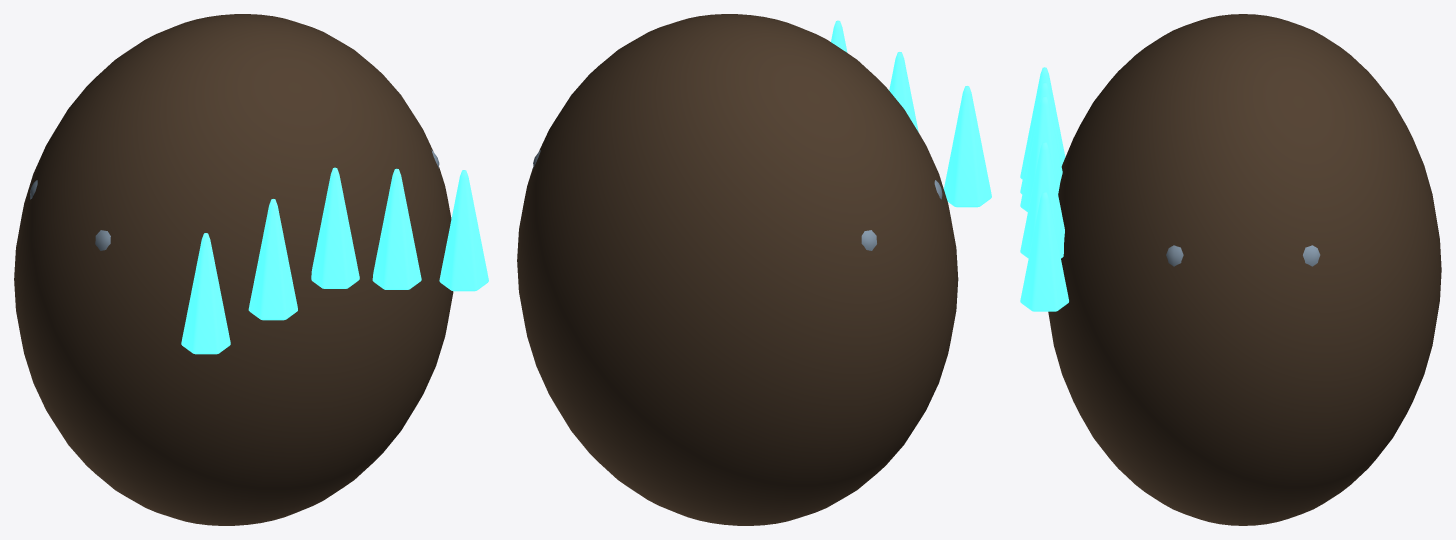
File: helm_v8.glb
3 views of the same model, side by side, from view 1: azimuth 30°, elevation 25°; view 2: azimuth 150°, elevation 25°; view 3: azimuth 270°, elevation 25° (orthographic).
Parts seen in each view (by area): view 1: CRYSTAL_HELM_SECONDARY, VISOR_CRYSTAL_EMISSIVE.001, VISOR_CRYSTAL_EMISSIVE.004, VISOR_CRYSTAL_EMISSIVE, VISOR_CRYSTAL_EMISSIVE.002, VISOR_CRYSTAL_EMISSIVE.003; view 2: CRYSTAL_HELM_SECONDARY, VISOR_CRYSTAL_EMISSIVE, VISOR_CRYSTAL_EMISSIVE.001; view 3: CRYSTAL_HELM_SECONDARY, VISOR_CRYSTAL_EMISSIVE.004, VISOR_CRYSTAL_EMISSIVE.003, VISOR_CRYSTAL_EMISSIVE.002, VISOR_CRYSTAL_EMISSIVE, VISOR_CRYSTAL_EMISSIVE.001, CRYSTAL_VISOR_PRIMARY.
Part boxes in pixels (x1,y1,x2,y2): CRYSTAL_HELM_SECONDARY: (14, 14, 453, 525); VISOR_CRYSTAL_EMISSIVE.001: (248, 199, 297, 320); VISOR_CRYSTAL_EMISSIVE.004: (439, 170, 488, 291); VISOR_CRYSTAL_EMISSIVE: (181, 233, 230, 354); VISOR_CRYSTAL_EMISSIVE.002: (311, 167, 359, 288); VISOR_CRYSTAL_EMISSIVE.003: (372, 168, 421, 289); CRYSTAL_HELM_SECONDARY: (517, 14, 958, 525); VISOR_CRYSTAL_EMISSIVE: (944, 86, 991, 207); VISOR_CRYSTAL_EMISSIVE.001: (889, 52, 918, 132); CRYSTAL_HELM_SECONDARY: (1048, 14, 1441, 525); VISOR_CRYSTAL_EMISSIVE.004: (1020, 192, 1068, 311); VISOR_CRYSTAL_EMISSIVE.003: (1020, 142, 1064, 258); VISOR_CRYSTAL_EMISSIVE.002: (1020, 96, 1062, 212); VISOR_CRYSTAL_EMISSIVE: (1020, 67, 1065, 179); VISOR_CRYSTAL_EMISSIVE.001: (1020, 82, 1063, 194); CRYSTAL_VISOR_PRIMARY: (1166, 245, 1320, 266).
Bounding box in the file's own units: 1.4 × 1.64 × 1.32.
